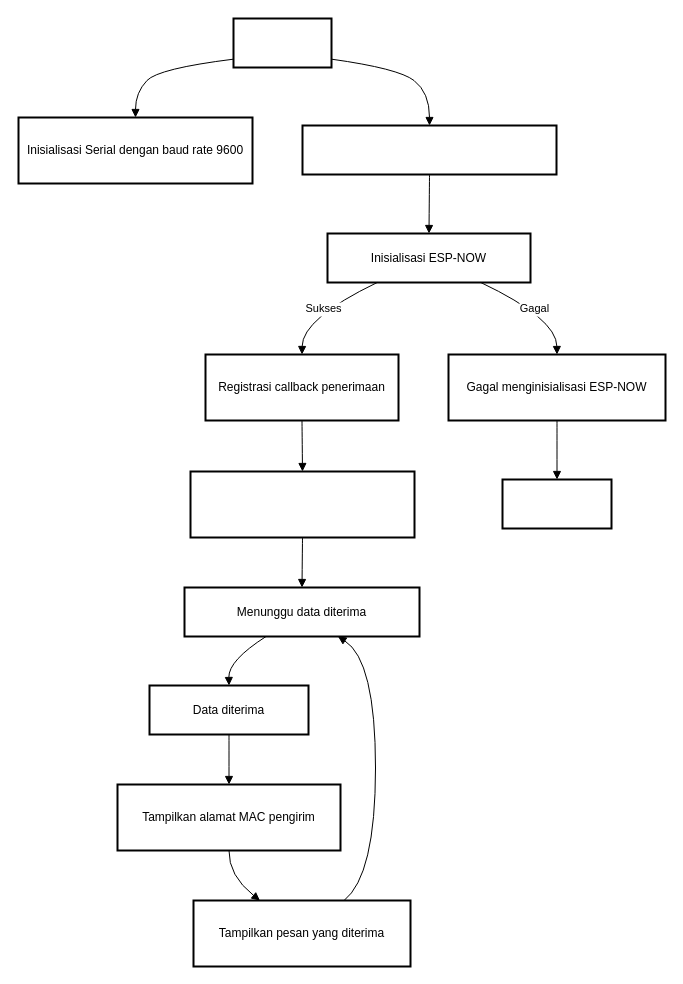
The diagram is 683 pixels wide and 984 high, and some of its shapes have lost their labels. Each missing label, with the centre of its shape:
"Mulai" goes at (282,42).
"Selesai" goes at (556,503).
"Set mode WiFi ke WIFI_STA" goes at (429,149).
"Set role ESP-NOW ke ESP_NOW_ROLE_SLAVE" goes at (302,504).
